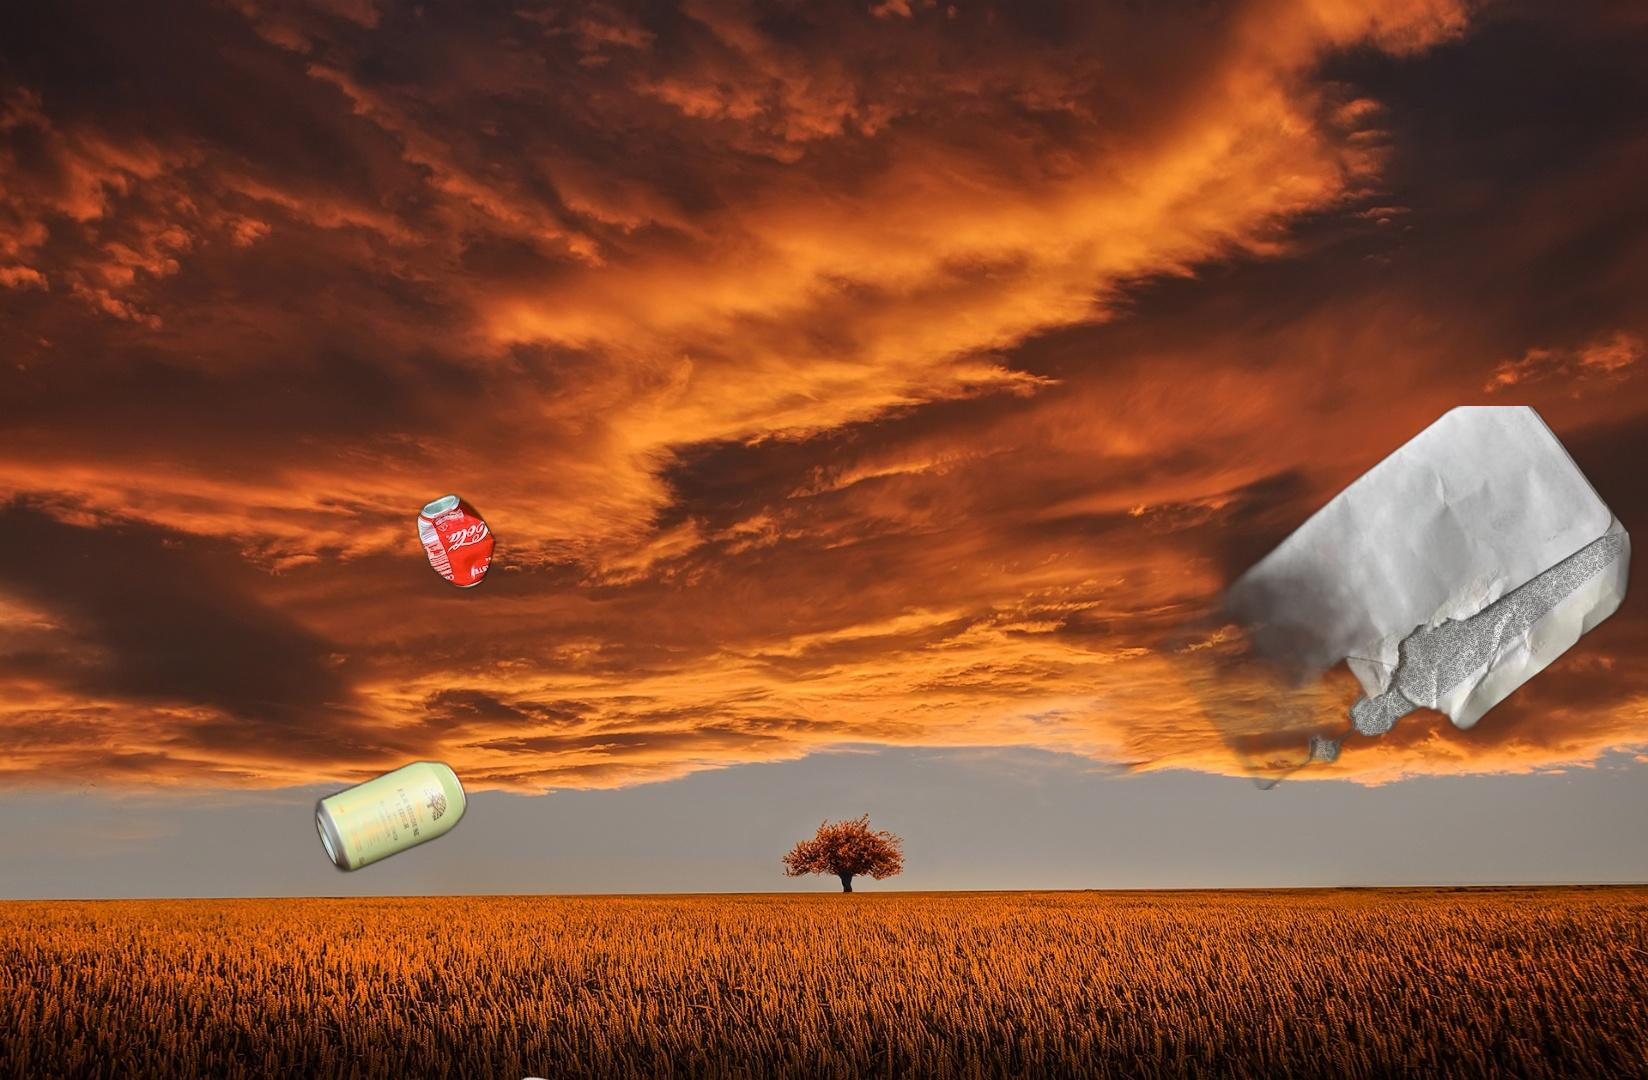glass: (301, 1002, 735, 1080)
metal-cans: (412, 102, 580, 593), (311, 755, 471, 877)
paper: (1139, 406, 1638, 790)
plastic-bag: (1312, 456, 1499, 577)
